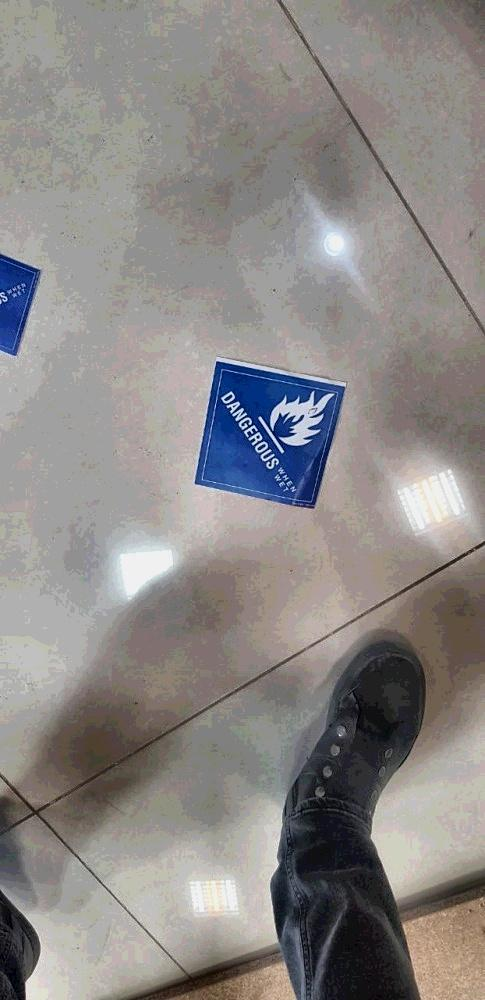dangerous-when-wet: (194, 364, 344, 505), (1, 243, 48, 369)
